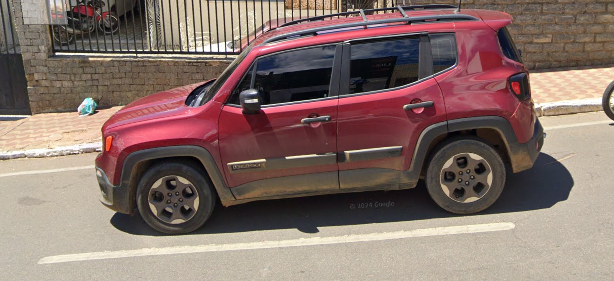car: (92, 1, 548, 237)
